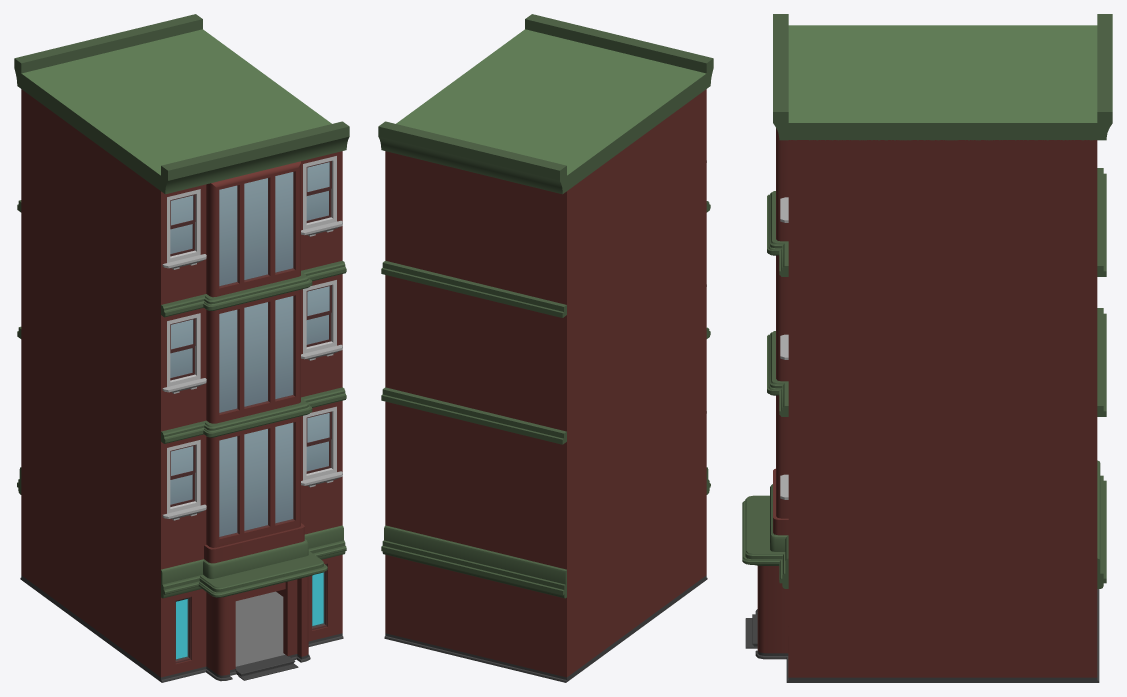
The model's file is SM_Buildings_House_04_V2.fbx.
The picture shows the model from 3 angles, left to right: view 1: azimuth 30°, elevation 25°; view 2: azimuth 150°, elevation 25°; view 3: azimuth 270°, elevation 25°; orthographic projection. The views are drawn at different scales.
Visible parts, largest first — view 1: SM_Buildings_House_04_V2; view 2: SM_Buildings_House_04_V2; view 3: SM_Buildings_House_04_V2.
Boxes of the visible parts, x1,y1,x2,y2 form: SM_Buildings_House_04_V2: [14, 14, 349, 682]; SM_Buildings_House_04_V2: [378, 14, 713, 682]; SM_Buildings_House_04_V2: [742, 14, 1112, 682].
Size of the model in its own units: 7.51 by 20.4 by 12.
